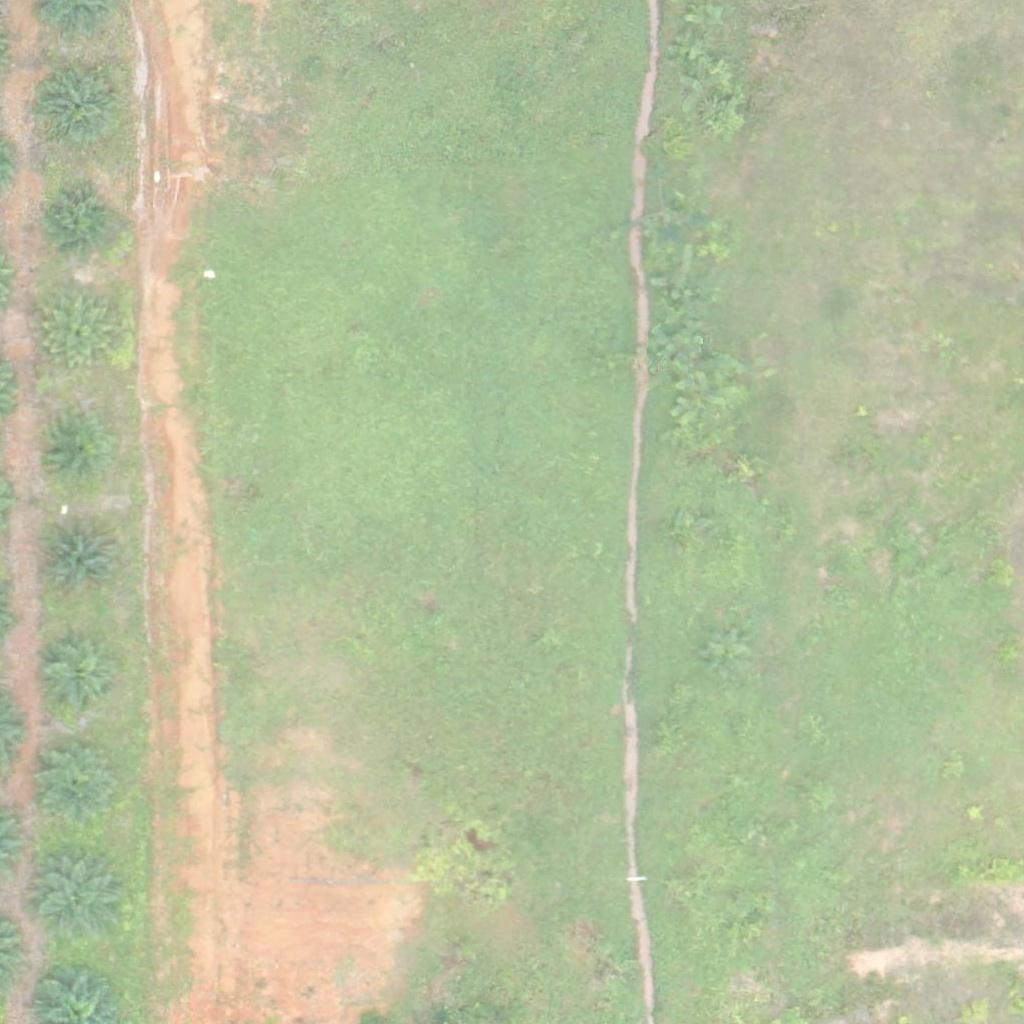Kelapa_Sawit: (33, 637, 121, 725), (33, 65, 121, 153), (37, 518, 124, 606), (33, 738, 120, 826), (33, 853, 120, 941), (37, 293, 112, 368), (44, 185, 119, 260), (42, 416, 105, 479)
